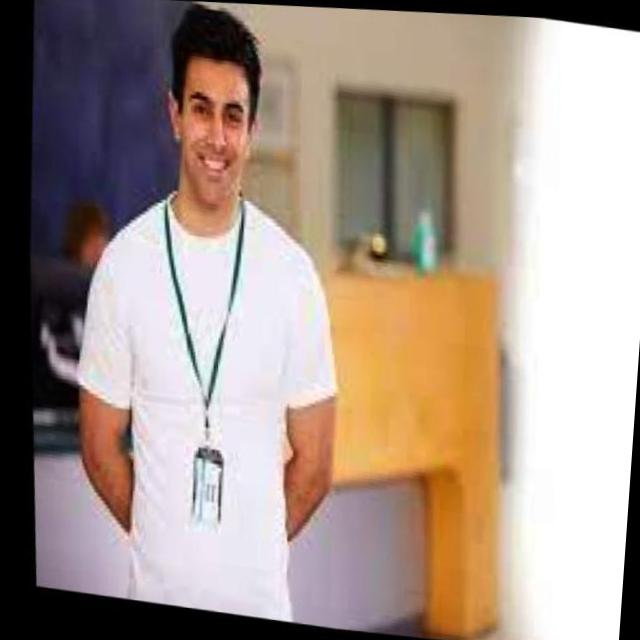id_card: (140, 196, 251, 528)
